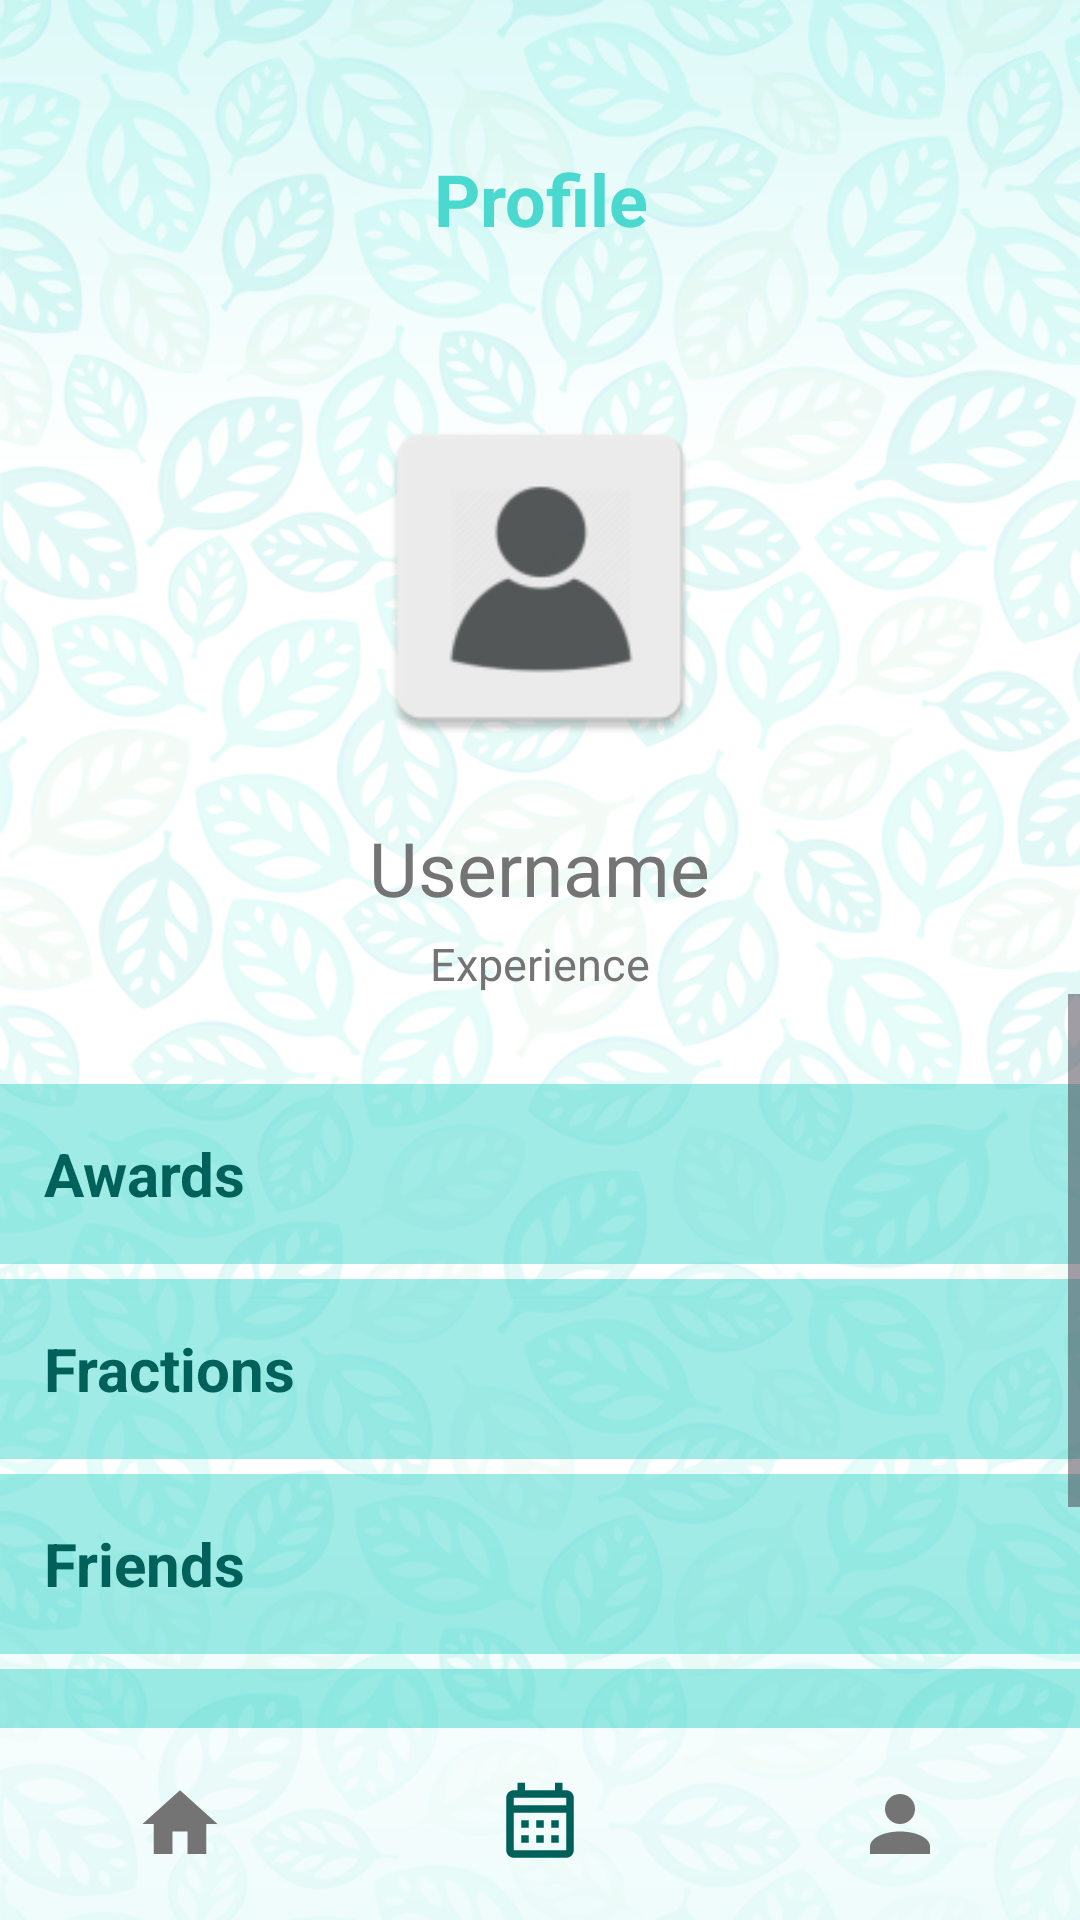

Where to tap for icons on this 1080px×1920px app screen, as [x,y]:
account: [900,1824]
calendar month: [540,1820]
home: [180,1822]
